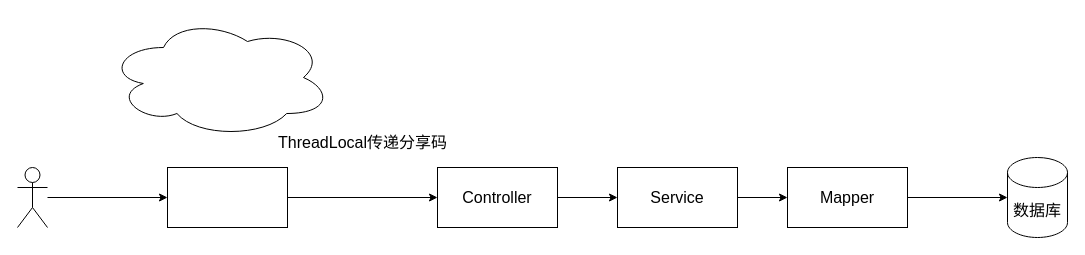
This 1085x255 diagram has some shape labels left out. The shapes that lost their labels are listed below. From the top down, each one's centre as x and y in pixels, then its label:
(x=219, y=77): ShareCodeAspect 解密token获取分享码
(x=227, y=197): 切面
